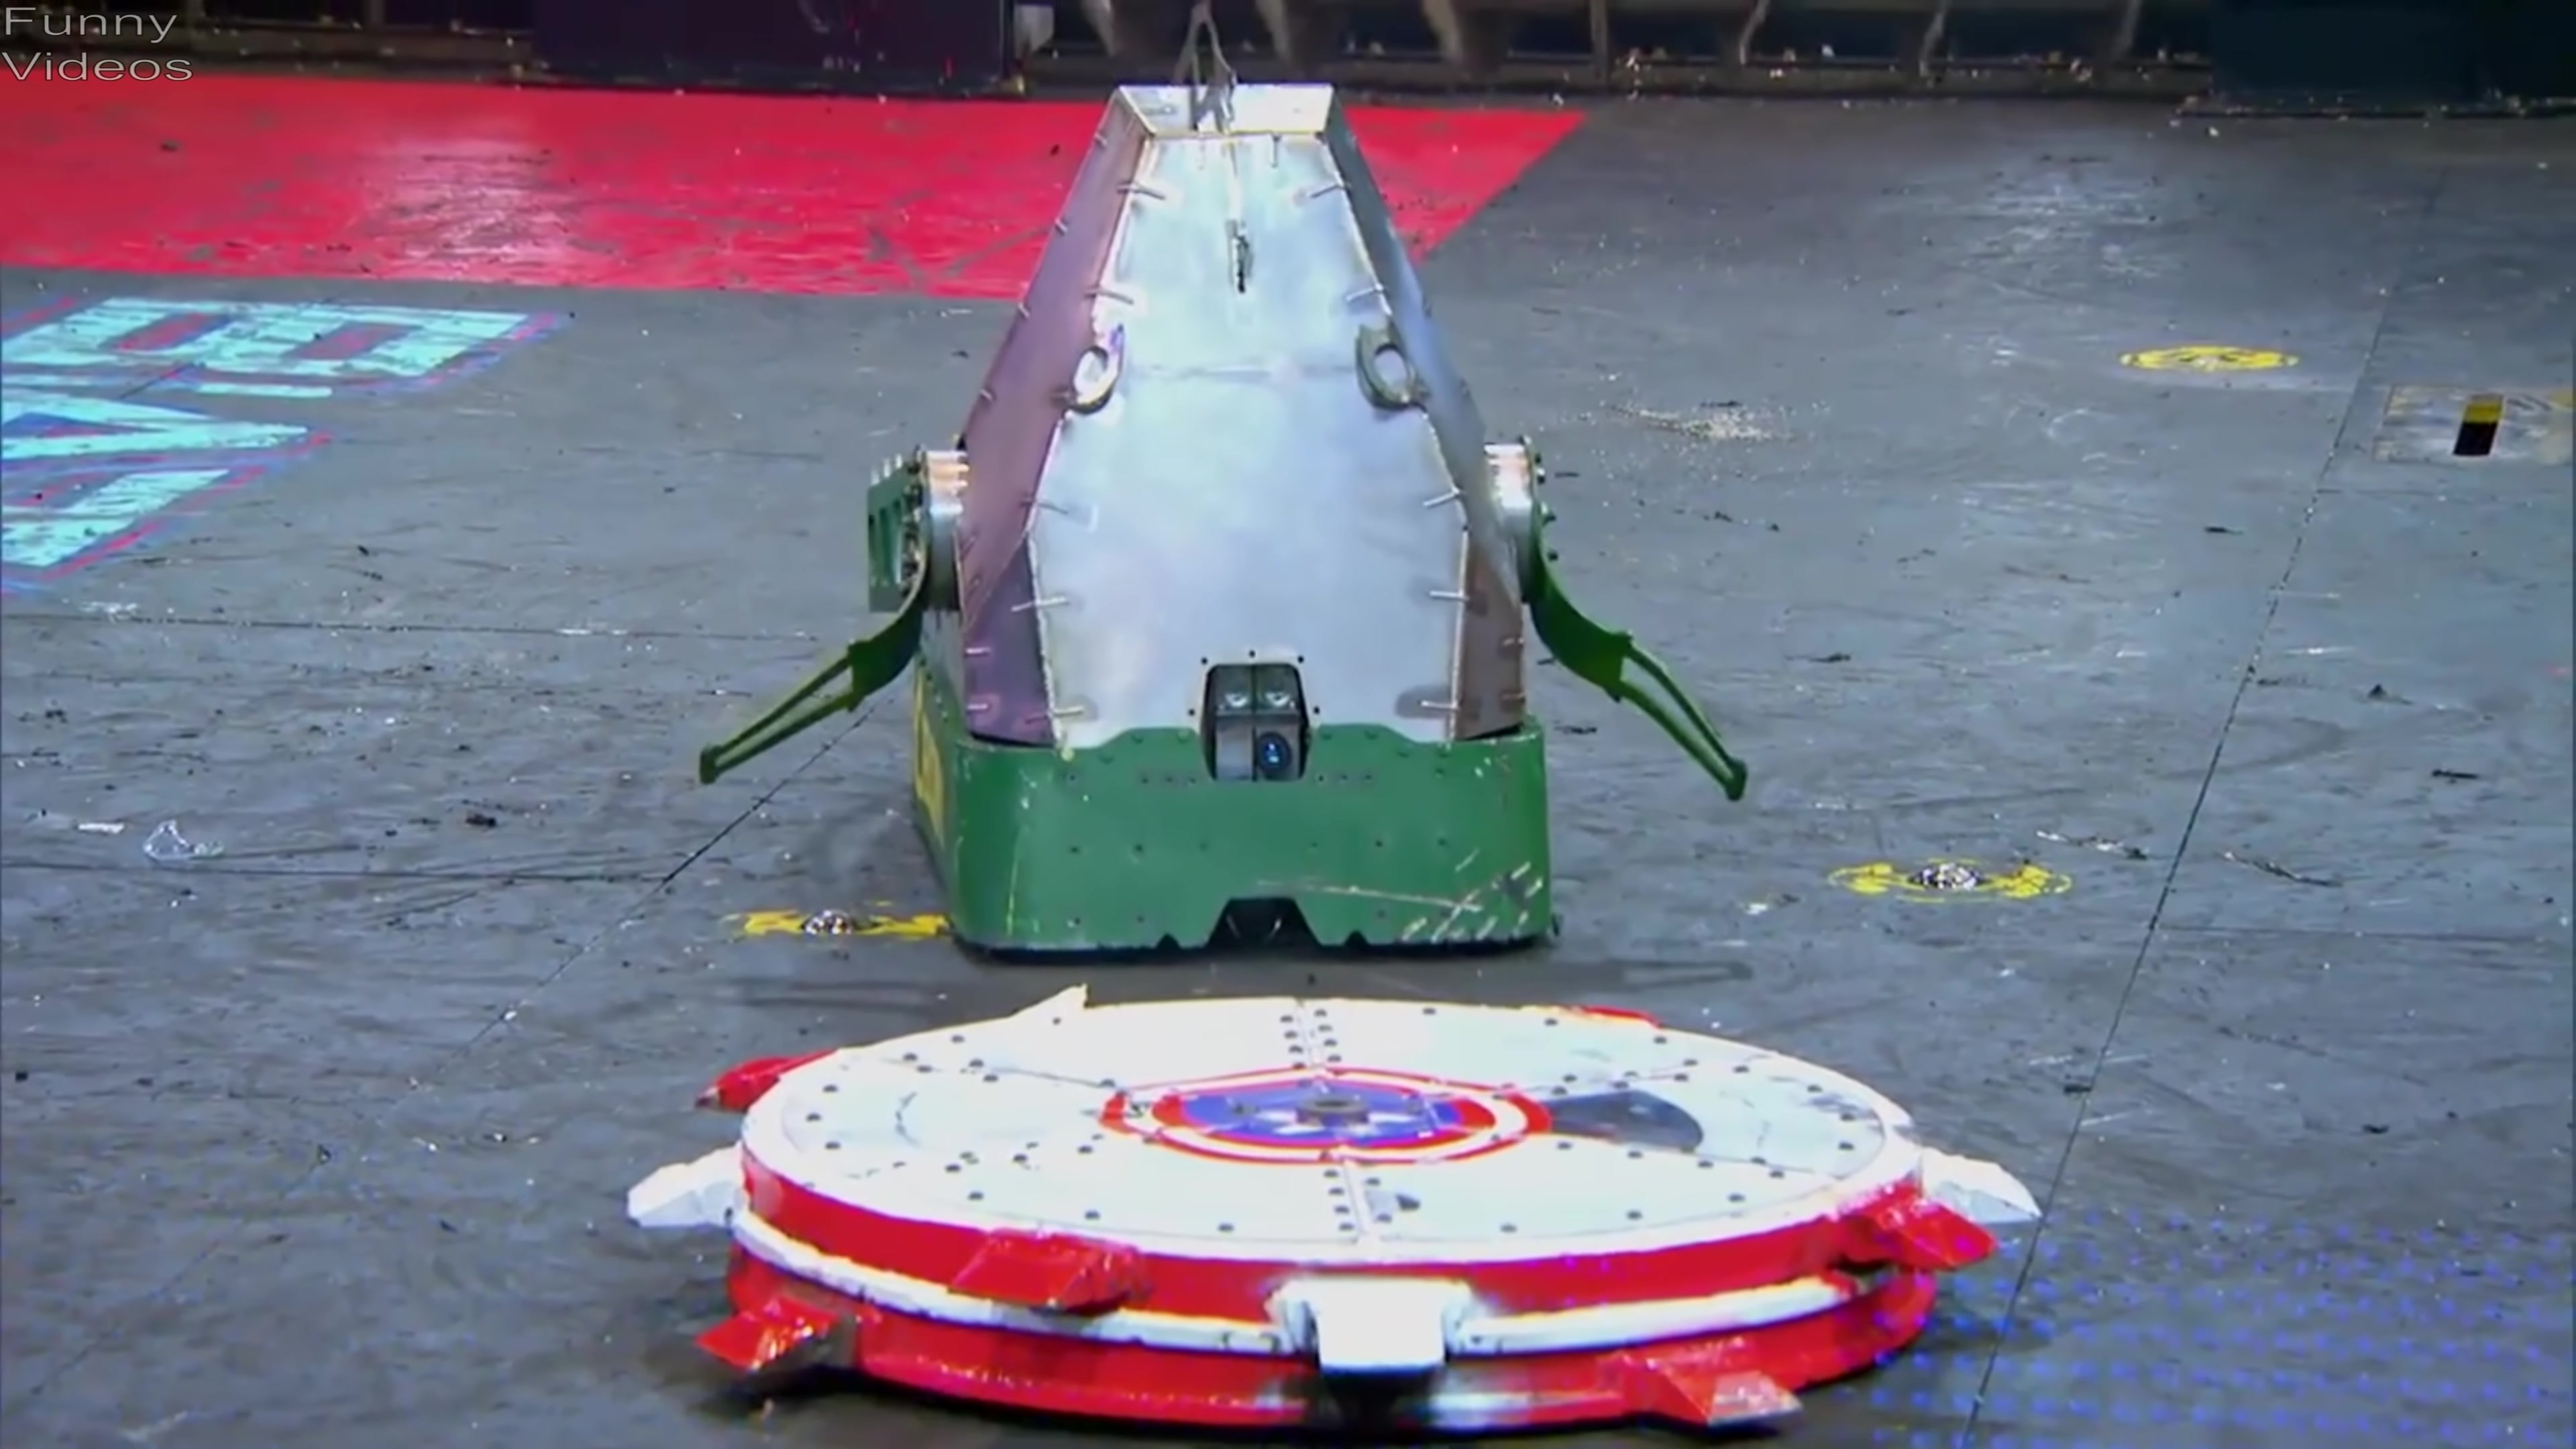combatbot: (695, 81, 1757, 957), (625, 984, 2051, 1424)
